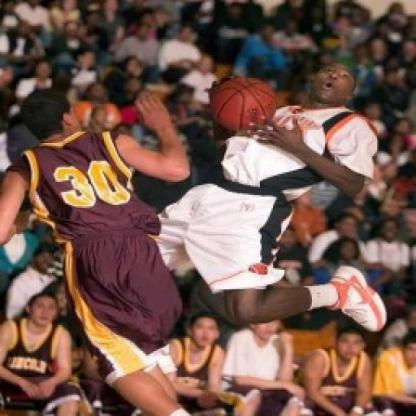basketball: (204, 74, 284, 138)
